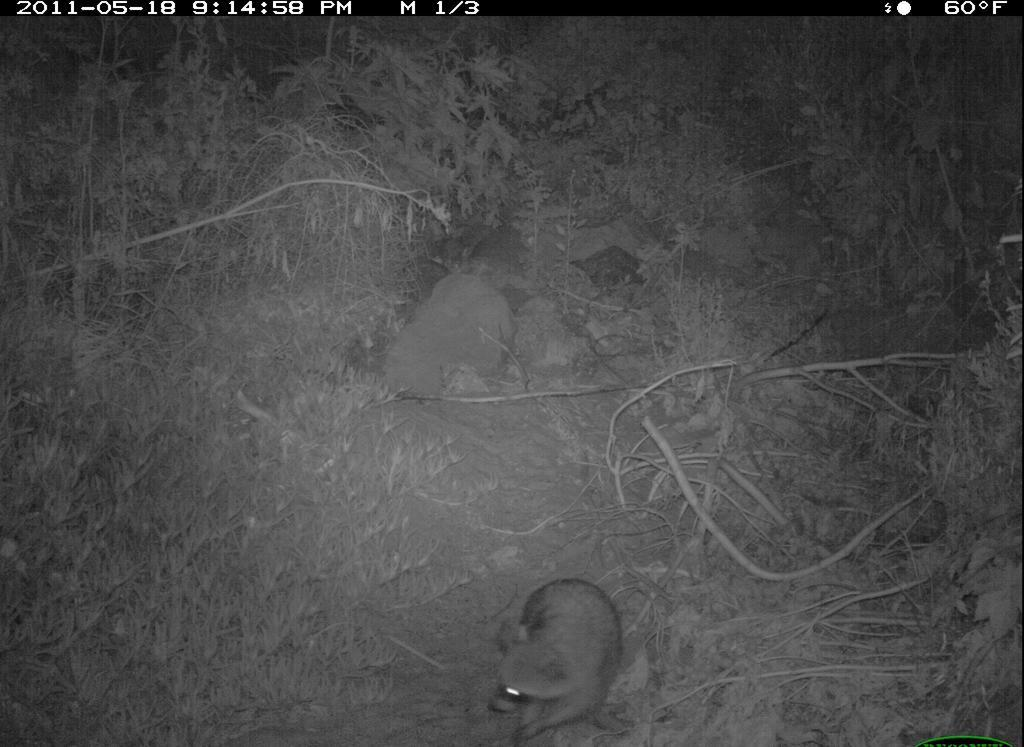raccoon: (486, 577, 638, 742)
